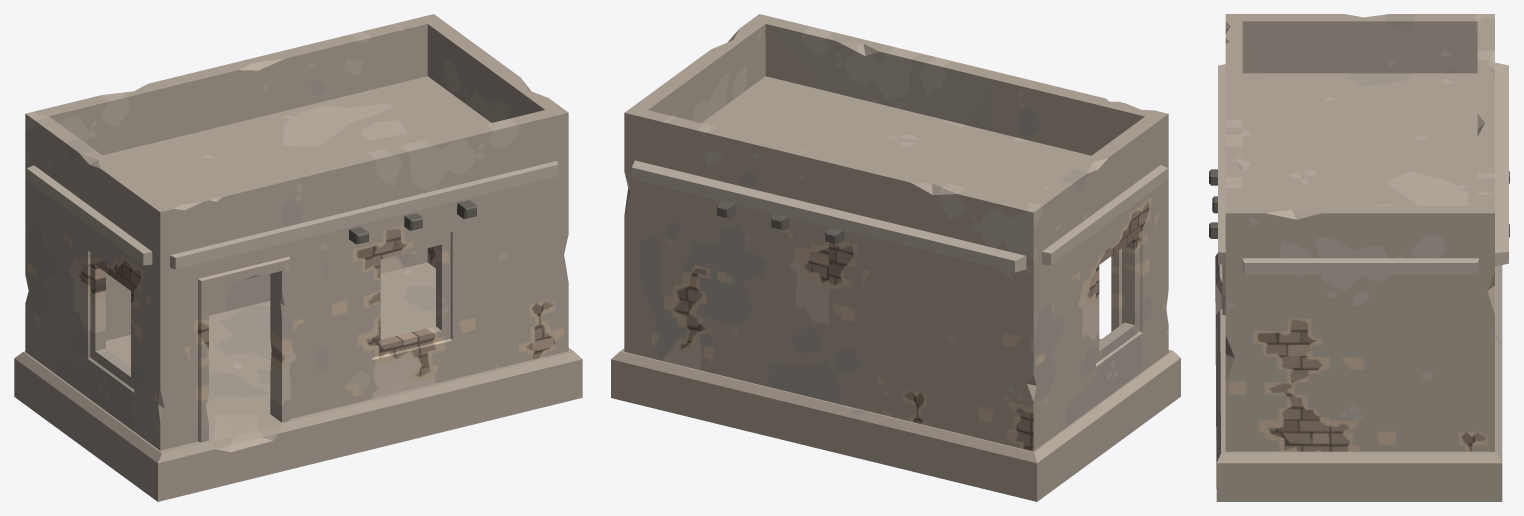
Rendered from SM_Bld_Village_House_05.fbx.
The picture shows the model from 3 angles, left to right: view 1: azimuth 30°, elevation 25°; view 2: azimuth 150°, elevation 25°; view 3: azimuth 270°, elevation 25°; orthographic projection.
Visible parts, largest first — view 1: SM_Bld_Village_House_05; view 2: SM_Bld_Village_House_05; view 3: SM_Bld_Village_House_05.
Part boxes in pixels (x1=…): SM_Bld_Village_House_05: x1=14, y1=14, x2=582, y2=501; SM_Bld_Village_House_05: x1=611, y1=14, x2=1180, y2=501; SM_Bld_Village_House_05: x1=1209, y1=14, x2=1509, y2=501.
Bounding box in the file's own units: 718 × 458 × 439.
